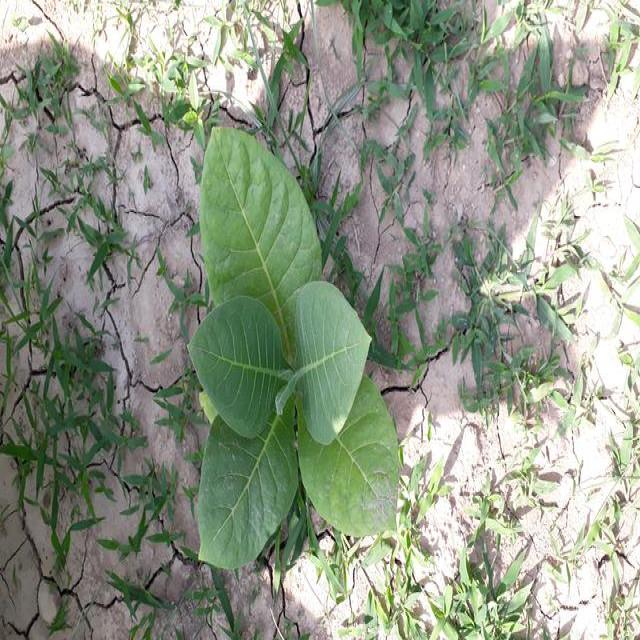crop: (185, 118, 391, 572)
